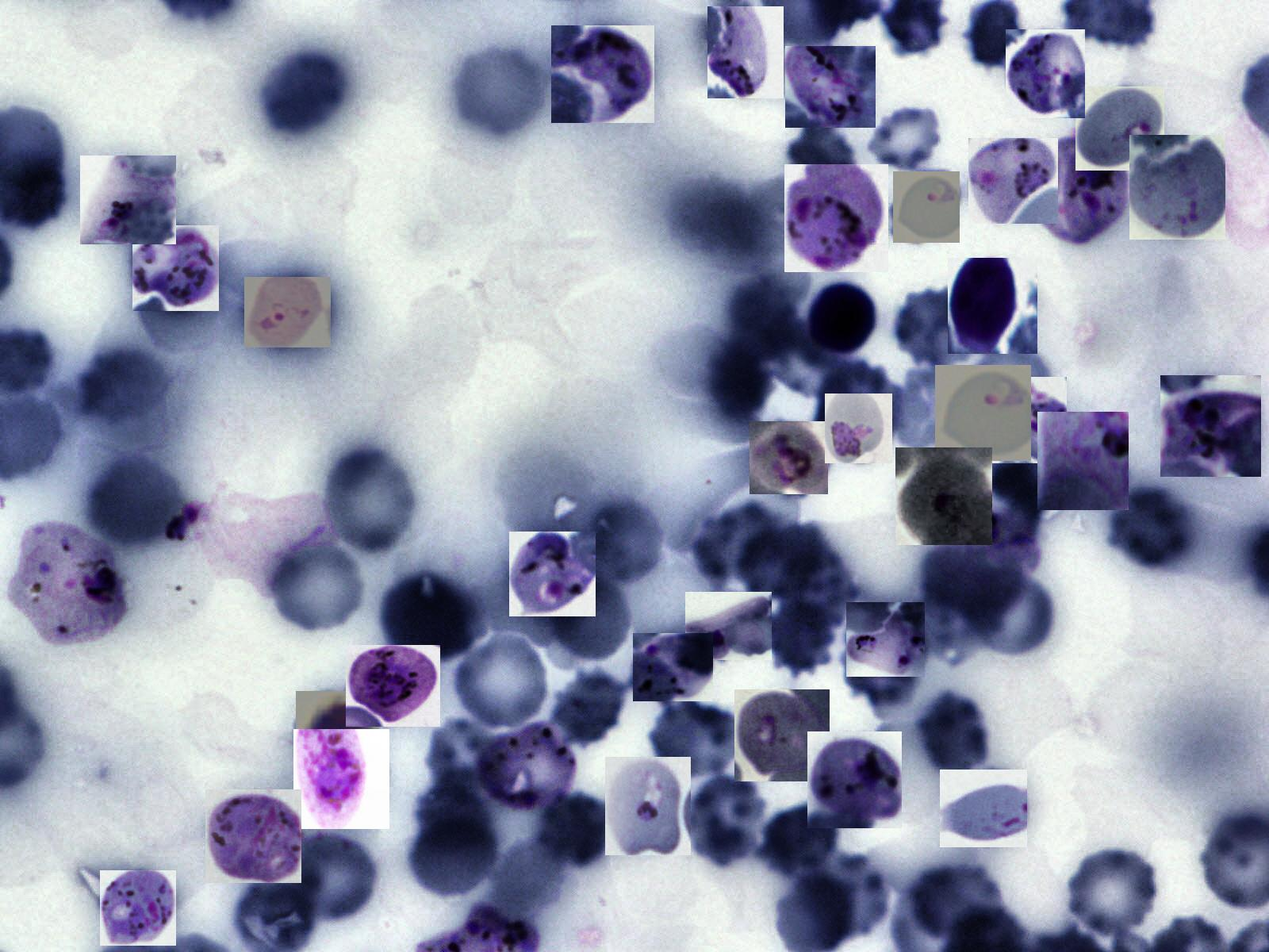Infected: (167, 494, 331, 594), (13, 522, 126, 649), (1034, 133, 1136, 249), (784, 164, 888, 272), (1160, 375, 1261, 477), (551, 25, 654, 123), (1129, 135, 1225, 240), (293, 729, 389, 829), (895, 447, 992, 545), (935, 365, 1031, 461), (807, 731, 902, 828), (205, 789, 301, 883), (1037, 412, 1129, 510), (734, 689, 830, 781), (948, 258, 1037, 354), (80, 155, 176, 244), (605, 757, 691, 855), (480, 723, 578, 809), (970, 377, 1067, 463), (938, 506, 1040, 585), (968, 138, 1058, 224), (346, 646, 440, 727), (1075, 86, 1164, 171), (132, 225, 219, 311), (785, 46, 876, 128), (509, 532, 596, 616), (1006, 29, 1085, 118), (707, 7, 784, 98), (940, 770, 1027, 847), (297, 691, 380, 769), (244, 277, 331, 347), (846, 602, 925, 677), (685, 592, 772, 660), (100, 870, 176, 946), (750, 421, 828, 494), (634, 633, 714, 701), (893, 171, 960, 243), (825, 393, 892, 463), (810, 282, 876, 353)
Uninfected: (319, 449, 419, 556), (450, 628, 552, 731), (265, 537, 367, 636), (1063, 844, 1163, 941), (450, 43, 550, 140), (964, 564, 1060, 661), (386, 575, 493, 661), (286, 831, 381, 927), (404, 808, 500, 903), (1105, 483, 1198, 575), (679, 772, 769, 867), (260, 44, 347, 140), (88, 458, 178, 545), (892, 287, 989, 367), (689, 504, 782, 587), (909, 864, 1003, 943), (731, 523, 828, 599), (801, 854, 888, 938), (777, 547, 861, 628), (892, 363, 970, 450), (648, 703, 742, 775), (815, 362, 903, 438), (554, 578, 631, 662), (79, 350, 170, 420), (915, 692, 991, 774), (758, 802, 844, 874), (588, 501, 661, 585), (429, 716, 502, 800), (788, 121, 862, 203), (551, 669, 627, 748), (764, 597, 836, 677), (542, 789, 614, 867), (867, 106, 940, 168)
